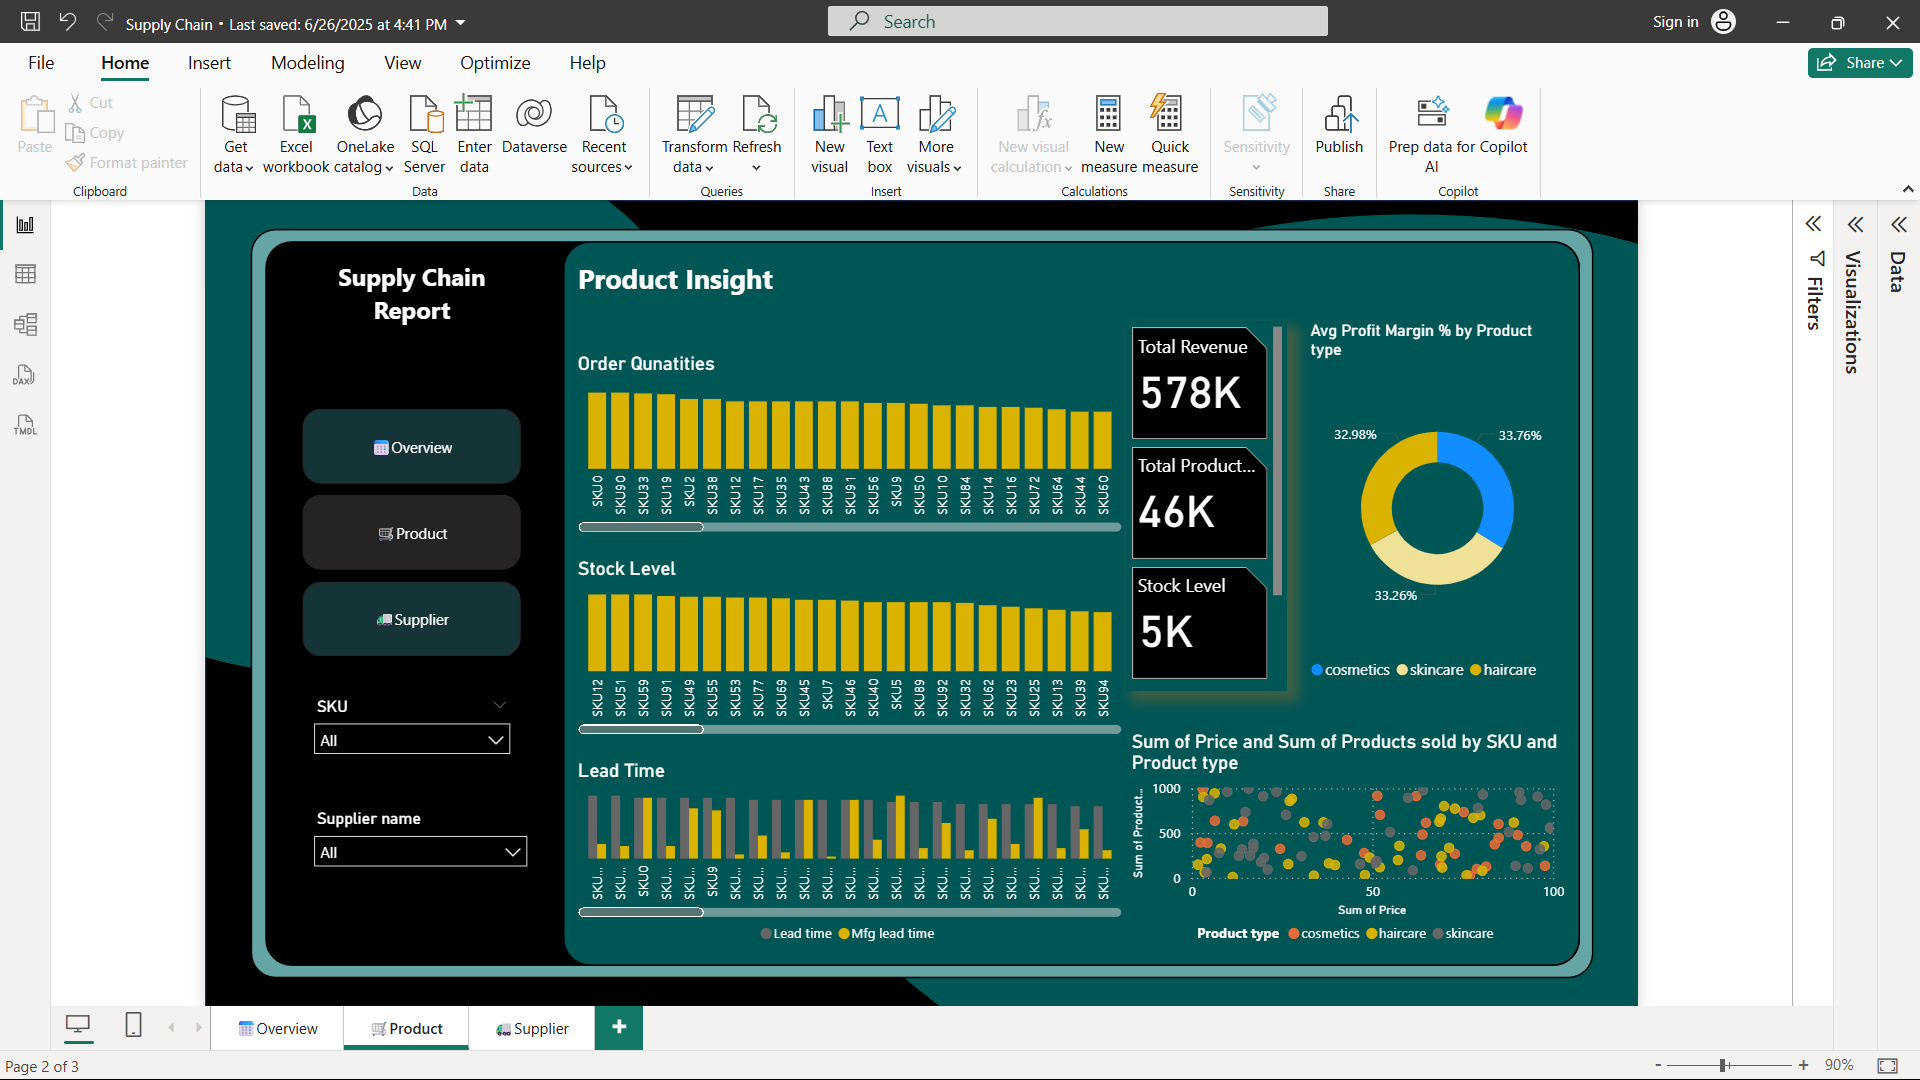

This screenshot's page, from the dashboard's own definition file:
{"tool":"powerbi","page":{"name":"🛒Product","canvas":[1280,720],"ordinal":1},"visuals":[{"type":"columnChart","title":"Order Qunatities","fields":{"Category":["supply_chain_data.SKU"],"Y":["Sum(supply_chain_data.Order quantities)"]},"box":[327.9,136,495.4,165.1],"z":0},{"type":"columnChart","title":"Stock Level","fields":{"Category":["supply_chain_data.SKU"],"Y":["_Measures.Stock Level"]},"box":[327.9,319.8,495.4,162.8],"z":1000},{"type":"clusteredColumnChart","title":"Lead Time","fields":{"Category":["supply_chain_data.SKU"],"Y":["Sum(supply_chain_data.Lead time)","Sum(supply_chain_data.Mfg lead time)"]},"box":[327.9,498.8,495.4,174.4],"z":2000},{"type":"cardVisual","fields":{"Data":["_Measures.Total Revenue","_Measures.Total Product Sold","_Measures.Stock Level","_Measures.Order Quantity"]},"box":[823.3,108.1,144.2,330.2],"z":3000},{"type":"donutChart","fields":{"Category":["supply_chain_data.Product type"],"Y":["_Measures.Avg Profit Margin %"]},"box":[982.6,108.1,237.2,330.2],"z":4000},{"type":"scatterChart","fields":{"Category":["supply_chain_data.SKU"],"X":["Sum(supply_chain_data.Price)"],"Y":["Sum(supply_chain_data.Products sold)"],"Series":["supply_chain_data.Product type"]},"box":[823.3,473.3,396.5,200],"z":5000},{"type":"textbox","box":[327.9,48.8,219.8,59.3],"z":6000},{"type":"pageNavigator","box":[87.2,186,195.3,222.1],"z":7000},{"type":"slicer","fields":{"Values":["supply_chain_data.Supplier name"]},"box":[87.2,539.5,210.5,88.4],"z":8000},{"type":"slicer","fields":{"Values":["supply_chain_data.SKU"]},"box":[87.2,438.4,195.3,75.6],"z":9000},{"type":"textbox","box":[87.2,48.8,195.3,101.2],"z":10000}]}

Visuals, with their boxes on the page's 1280x720 design canvas (x1, y1, x2, y2). These are canvas units, not pixel positions in the 1920x1080 screenshot, which may show the page scaled, cropped or inside an application window:
"Order Qunatities" columnChart: detection(328, 136, 823, 301)
"Stock Level" columnChart: detection(328, 320, 823, 483)
"Lead Time" clusteredColumnChart: detection(328, 499, 823, 673)
cardVisual - _Measures.Total Revenue x _Measures.Total Product Sold: detection(823, 108, 968, 438)
donutChart - supply_chain_data.Product type x _Measures.Avg Profit Margin %: detection(983, 108, 1220, 438)
scatterChart - supply_chain_data.SKU x Sum(supply_chain_data.Price): detection(823, 473, 1220, 673)
textbox: detection(328, 49, 548, 108)
pageNavigator: detection(87, 186, 282, 408)
slicer - supply_chain_data.Supplier name: detection(87, 540, 298, 628)
slicer - supply_chain_data.SKU: detection(87, 438, 282, 514)
textbox: detection(87, 49, 282, 150)
